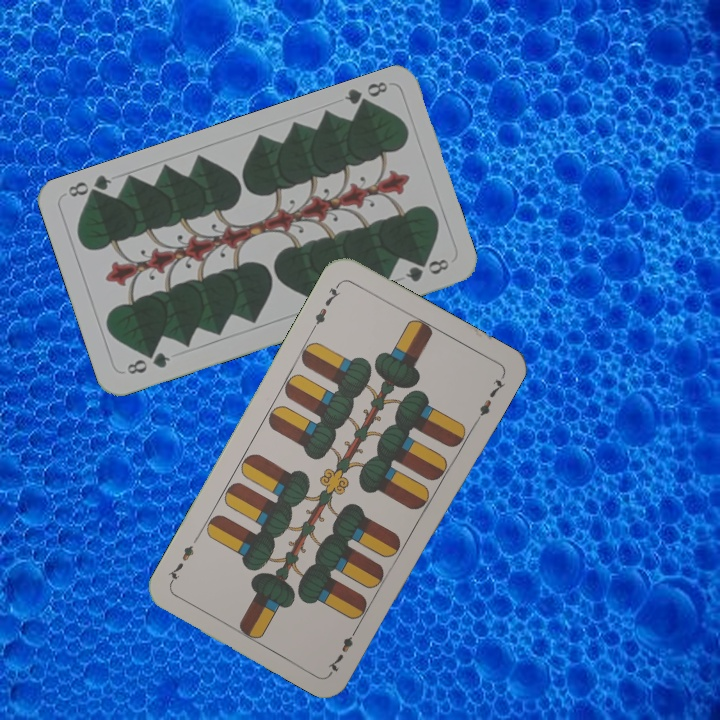E7: (323, 622, 362, 675), (308, 279, 344, 333)
G8: (340, 77, 390, 113), (122, 348, 173, 377)
